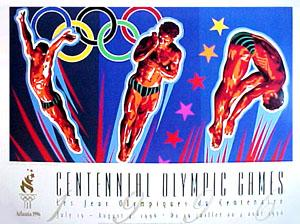person: (206, 27, 287, 153), (111, 20, 182, 158), (18, 14, 81, 156)
